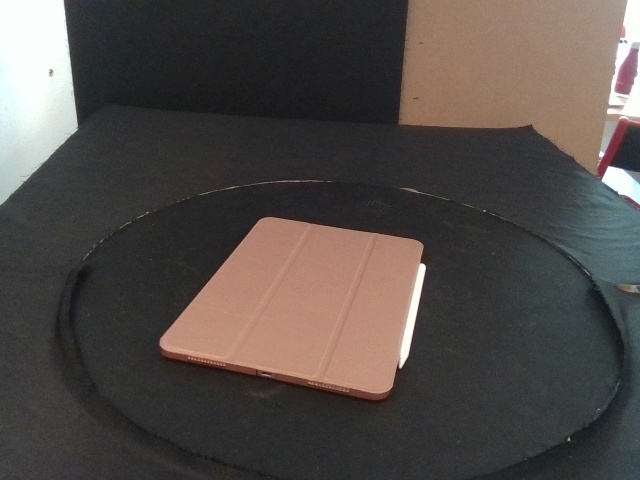laptop: (158, 216, 425, 400)
